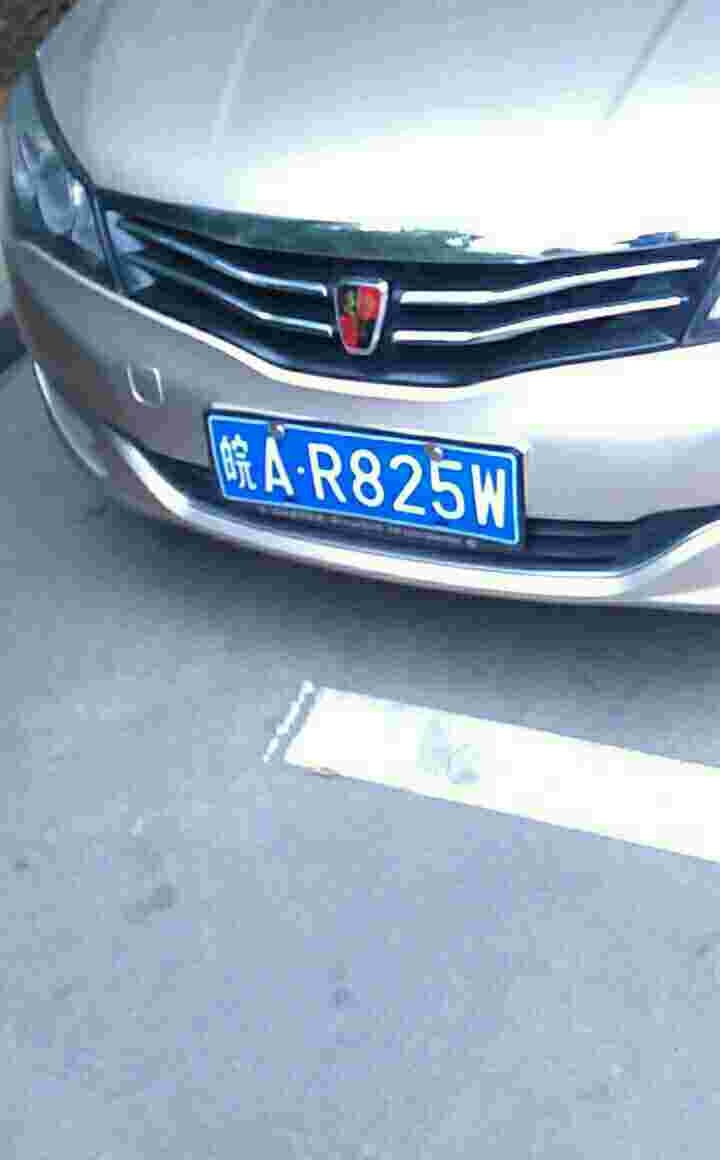license_plate: (213, 413, 511, 547)
